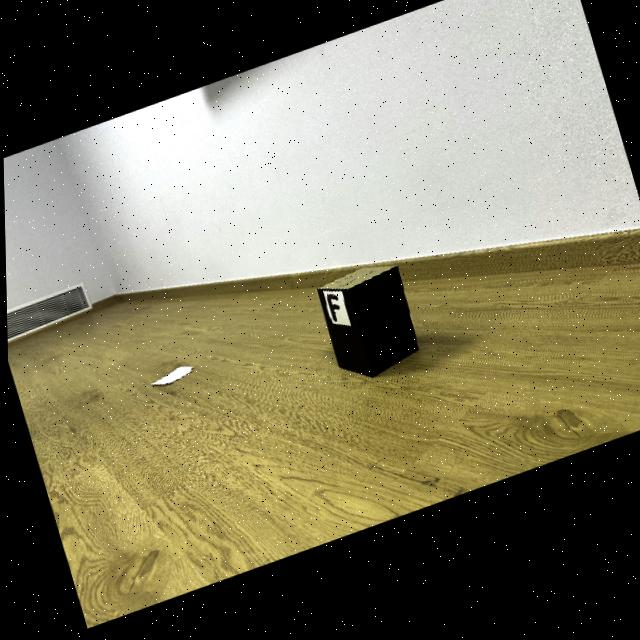F: (325, 299, 338, 327)
